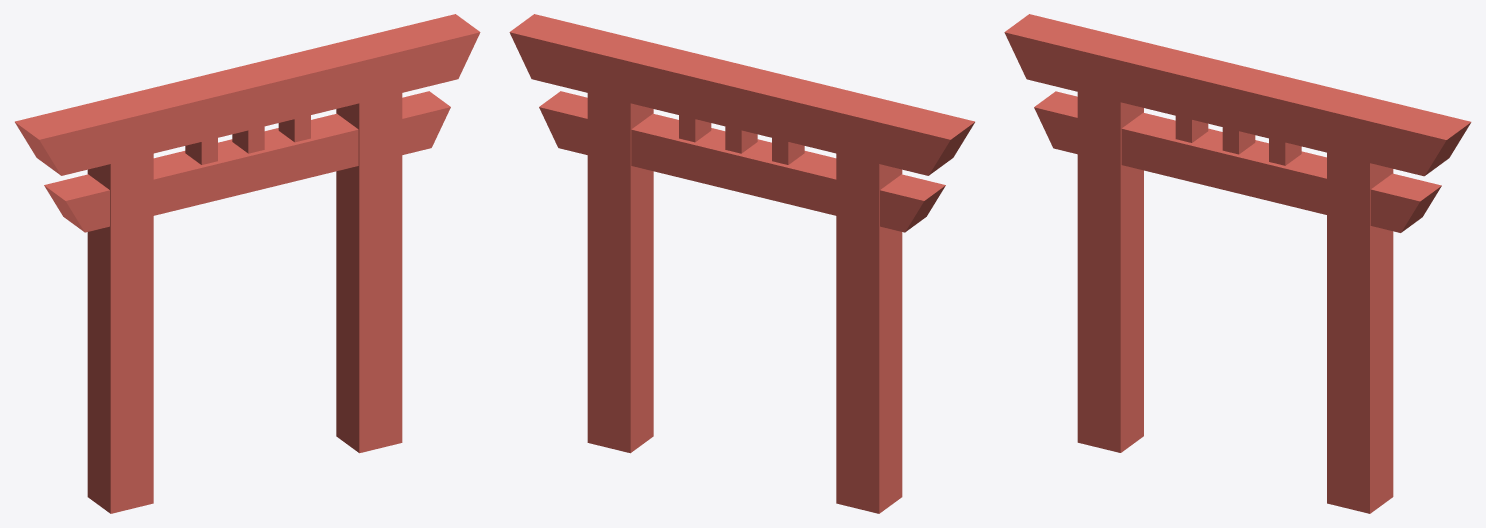
File: gate.fbx
3 renders of one model, left to right at view 1: azimuth 30°, elevation 25°; view 2: azimuth 150°, elevation 25°; view 3: azimuth 330°, elevation 25°, orthographic.
Visible parts, largest first — view 1: polySurface471; view 2: polySurface471; view 3: polySurface471.
Part boxes in pixels (x1,y1,x2,y2): polySurface471: [15, 14, 480, 513]; polySurface471: [509, 14, 974, 513]; polySurface471: [1004, 14, 1471, 513].
Size of the model in its own units: 7.9 by 6.71 by 0.7722.
